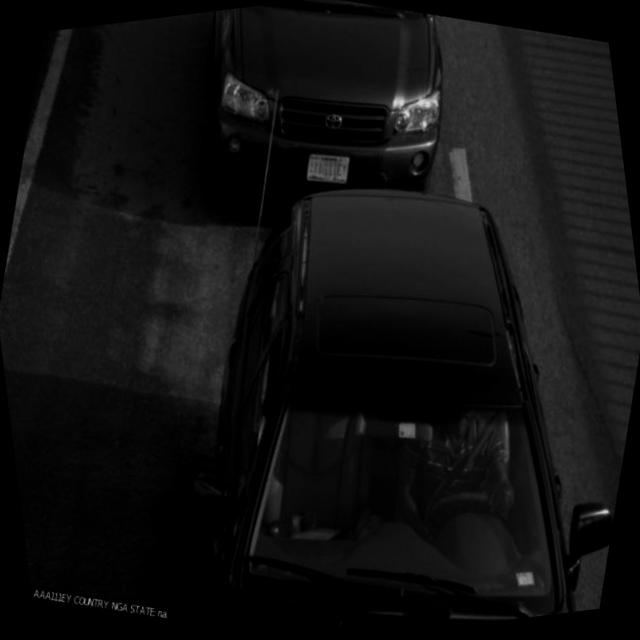person_with_seatbelt: (374, 387, 534, 566)
